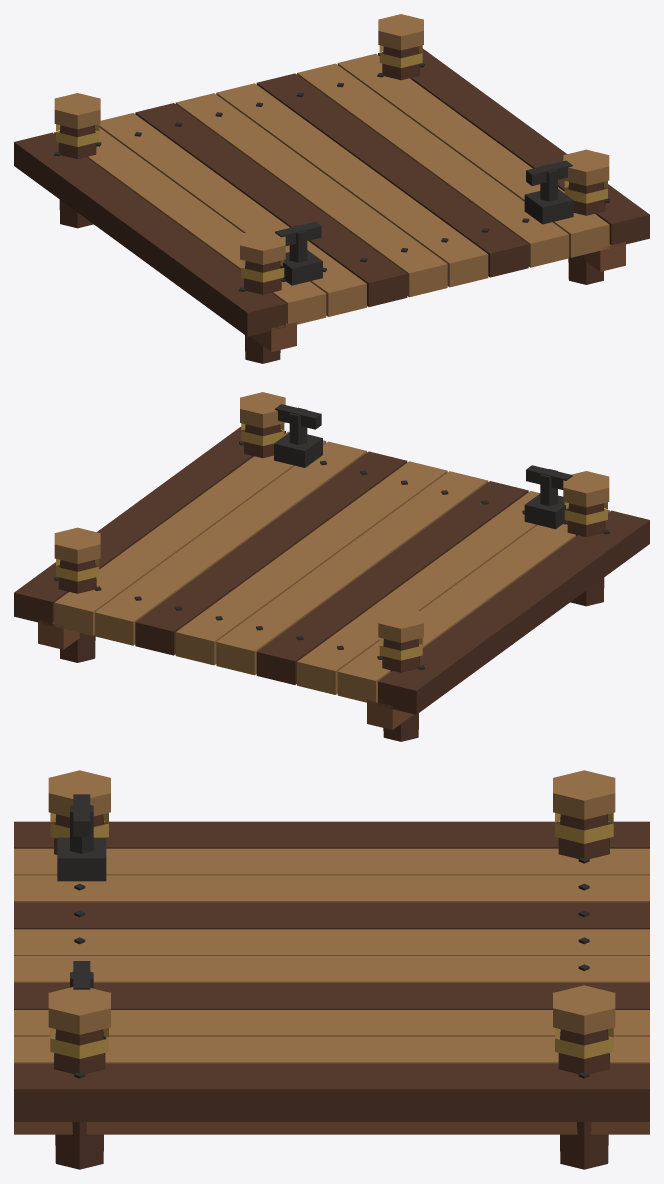
File: dock-segment.glb
The picture shows the model from 3 angles, top to bottom: view 1: azimuth 30°, elevation 25°; view 2: azimuth 150°, elevation 25°; view 3: azimuth 270°, elevation 25°; orthographic projection. The views are drawn at different scales.
Parts seen in each view (by area): view 1: dock-segment; view 2: dock-segment; view 3: dock-segment.
Part boxes in pixels (bbox=[...]): dock-segment: bbox=[14, 14, 649, 363]; dock-segment: bbox=[14, 392, 649, 741]; dock-segment: bbox=[14, 770, 649, 1169].
Size of the model in its own units: 2.99 by 0.8301 by 3.
